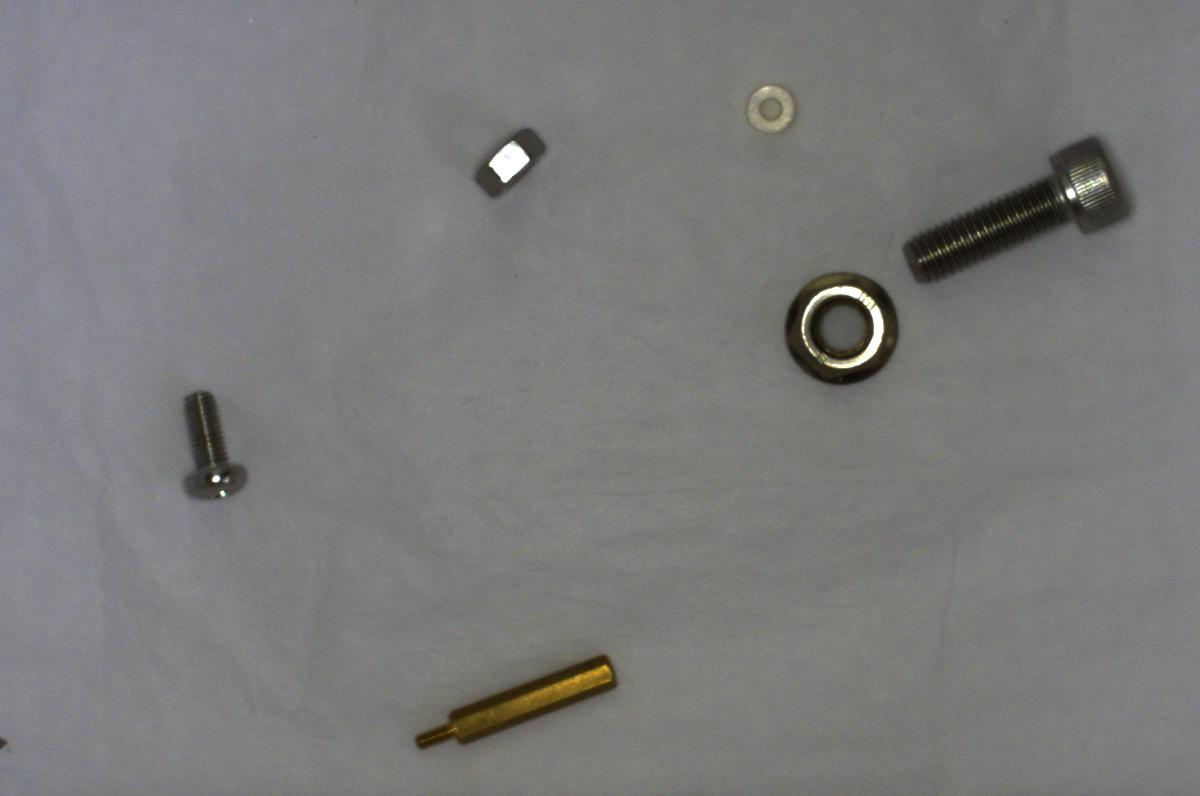Flange nut: (775, 267, 904, 390)
Hexagon nut: (467, 122, 548, 198)
Hexagon pillar: (397, 645, 628, 753)
Hexagon screw: (906, 123, 1134, 287)
Plastic cushion pillar: (730, 76, 804, 143)
Round head screw: (174, 381, 248, 516)
